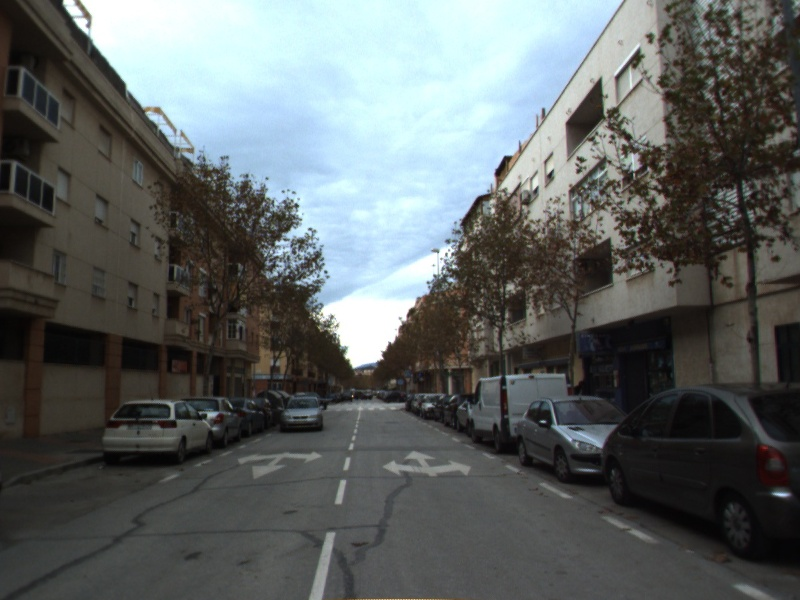STRAIGHT_LEFT_RIGHT: (381, 449, 473, 478)
